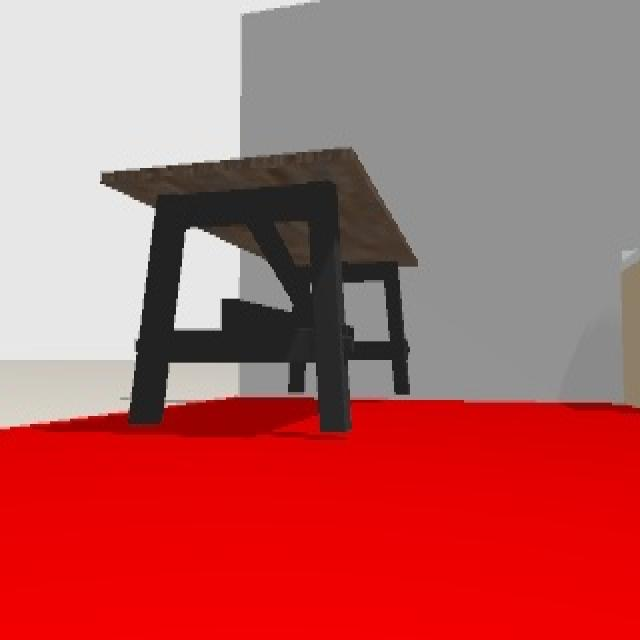dining: (102, 140, 416, 438)
